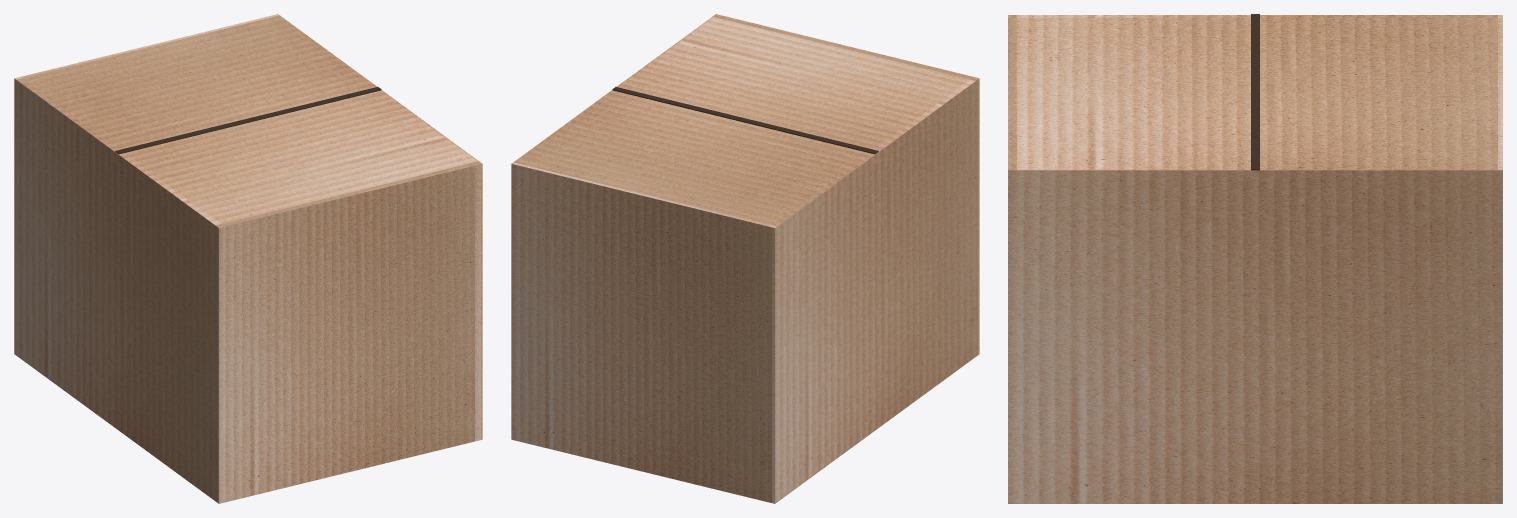
File: Caja cerrada.fbx
The picture shows the model from 3 angles, left to right: view 1: azimuth 30°, elevation 25°; view 2: azimuth 150°, elevation 25°; view 3: azimuth 270°, elevation 25°; orthographic projection. The views are drawn at different scales.
Visible parts, largest first — view 1: Cube, Cube.001; view 2: Cube, Cube.001; view 3: Cube, Cube.001.
Boxes of the visible parts, box(x1,y1,x2,y2) form: Cube: box(14, 14, 482, 503); Cube.001: box(115, 87, 381, 154); Cube: box(511, 14, 979, 503); Cube.001: box(612, 87, 878, 154); Cube: box(1008, 15, 1502, 503); Cube.001: box(1251, 14, 1259, 170).
Size of the model in its own units: 200 by 201 by 269.
2 materials, 1 textured.
